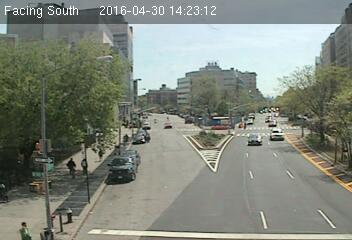neg: (209, 107, 248, 160), (278, 43, 317, 94), (246, 141, 281, 187), (119, 132, 150, 174), (30, 79, 60, 120), (309, 178, 335, 212), (164, 44, 187, 76), (182, 169, 205, 200), (91, 43, 113, 73), (59, 202, 78, 227)
pos: (61, 155, 78, 178), (10, 215, 27, 238), (81, 157, 94, 174)
